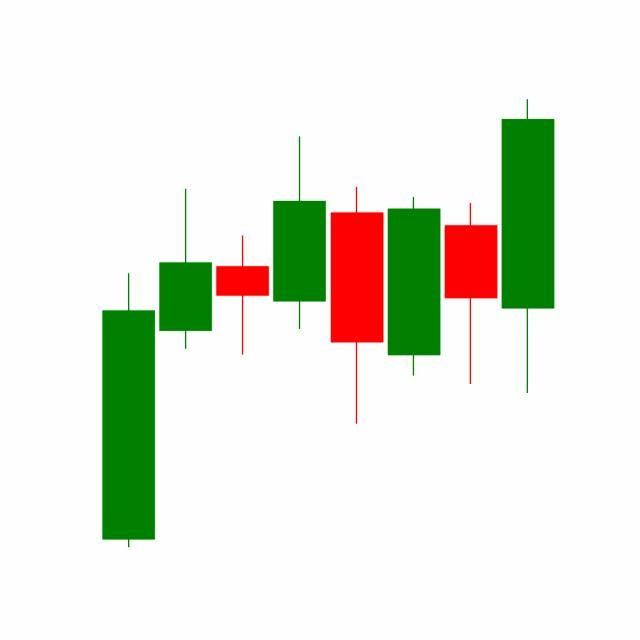Hikkake Pattern: (270, 100, 555, 430)
